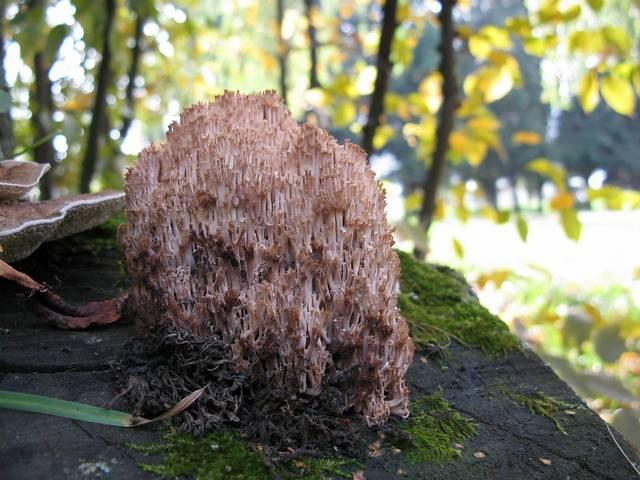edible_mushroom: (115, 87, 415, 428)
